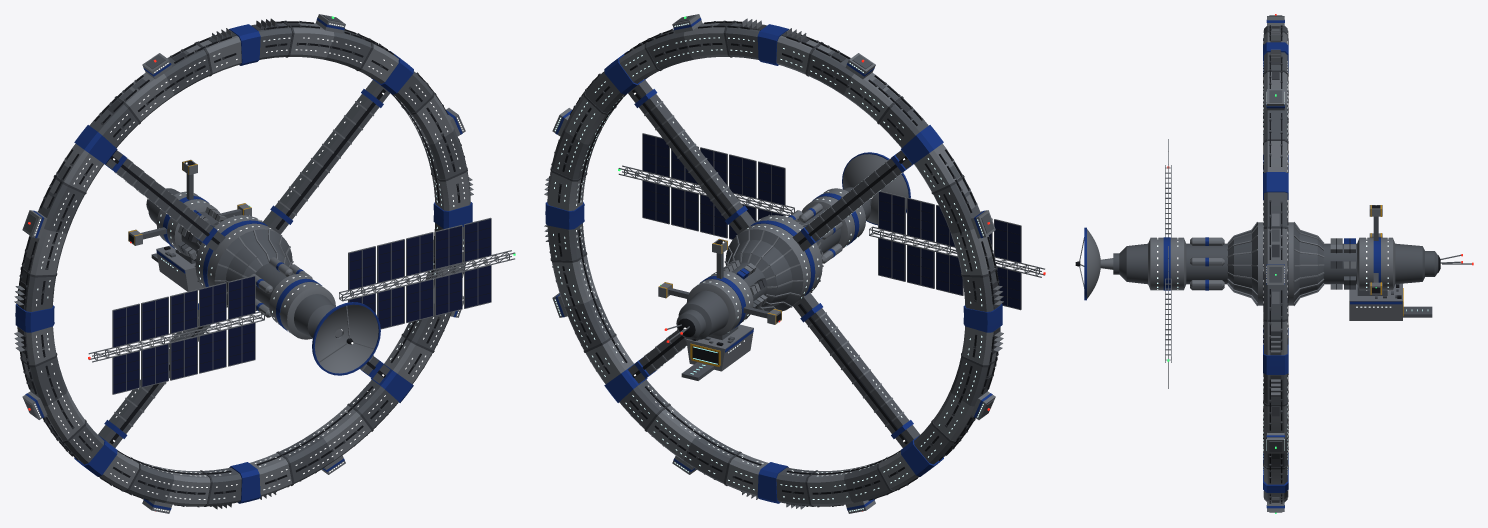
Rendered from space_station.glb.
The picture shows the model from 3 angles, left to right: view 1: azimuth 30°, elevation 25°; view 2: azimuth 150°, elevation 25°; view 3: azimuth 270°, elevation 25°; orthographic projection. The views are drawn at different scales.
Parts seen in each view (by area): view 1: Ring, SolarL, Core, SolarR, Spoke0, Dish, Spoke1, Spoke2, Hangar; view 2: Ring, Core, SolarL, SolarR, Spoke0, Spoke2, Spoke1, Hangar, Dish, Spoke3; view 3: Core, Ring, Hangar, Dish.
Boxes of the visible parts, x1,y1,x2,y2 form: Ring: [14, 14, 473, 513]; SolarL: [88, 275, 264, 394]; Core: [128, 159, 335, 339]; SolarR: [339, 217, 515, 329]; Spoke0: [262, 80, 390, 234]; Dish: [312, 302, 380, 375]; Spoke1: [106, 150, 225, 251]; Spoke2: [98, 303, 210, 447]; Hangar: [151, 245, 201, 291]; Ring: [544, 14, 1003, 513]; Core: [658, 187, 871, 342]; SolarL: [869, 191, 1045, 310]; SolarR: [618, 133, 794, 239]; Spoke0: [628, 80, 755, 234]; Spoke2: [793, 292, 920, 447]; Spoke1: [792, 150, 912, 251]; Hangar: [681, 324, 753, 380]; Dish: [842, 152, 910, 225]; Spoke3: [628, 329, 686, 383]; Core: [1113, 204, 1473, 305]; Ring: [1263, 14, 1288, 513]; Hangar: [1349, 283, 1432, 320]; Dish: [1074, 227, 1113, 300].
Bounding box in the file's own units: 817 × 817 × 669.
